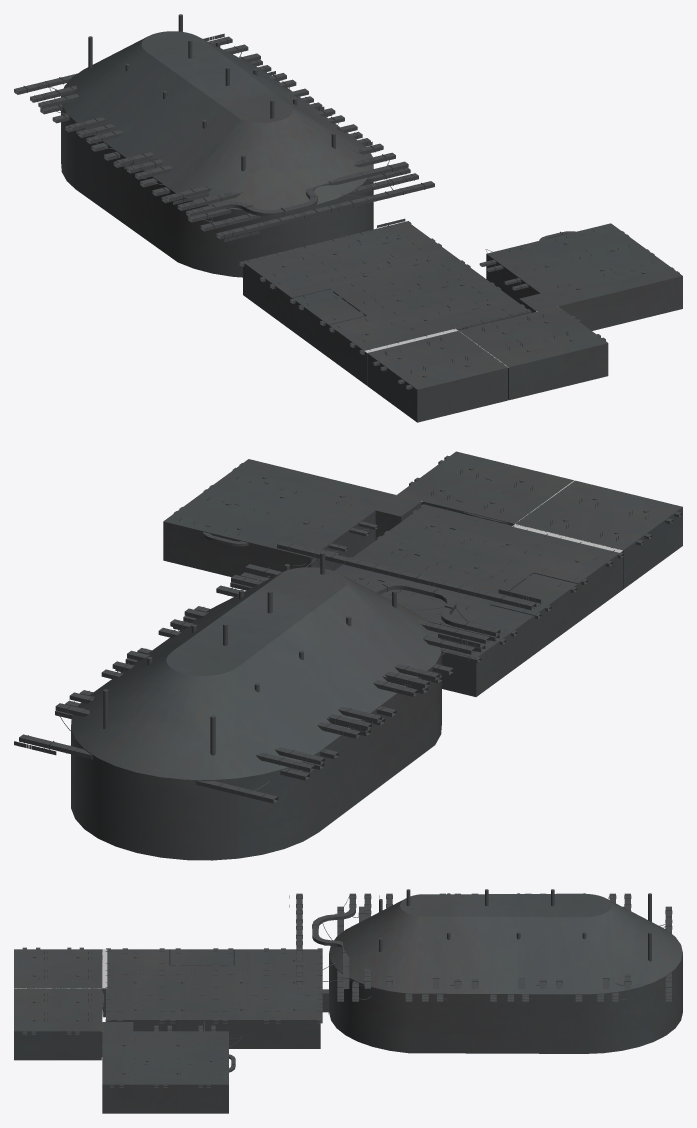
Rendered from Dave&Buster.fbx.
The picture shows the model from 3 angles, top to bottom: view 1: azimuth 30°, elevation 25°; view 2: azimuth 150°, elevation 25°; view 3: azimuth 270°, elevation 25°; orthographic projection. The views are drawn at different scales.
Parts seen in each view (by area): view 1: Plane, Cube.019, Cube.018, Cube.020, Cube.022, Cube.021, Cube.015, Cylinder.024, Cube.003; view 2: Plane, Cube.019, Cube.022, Cube.015, Cube.020, Cube.021, Cylinder.024, Cube.018, Cube.002, Cube.003; view 3: Plane, Cube.019, Cube.018, Cylinder.024, Cube.015, Cube.003, Cube.022, Cube.004, Cube.020.
Boxes of the visible parts, left/top/right/bottom form: Plane: left=61, top=31, right=682, bottom=422; Cube.019: left=177, top=152, right=434, bottom=242; Cube.018: left=161, top=141, right=418, bottom=231; Cube.020: left=126, top=115, right=383, bottom=204; Cube.022: left=30, top=44, right=286, bottom=134; Cube.021: left=78, top=79, right=335, bottom=169; Cube.015: left=14, top=33, right=271, bottom=123; Cylinder.024: left=88, top=14, right=335, bottom=171; Cube.003: left=290, top=260, right=531, bottom=354; Plane: left=71, top=451, right=682, bottom=860; Cube.019: left=231, top=541, right=540, bottom=643; Cube.022: left=55, top=669, right=365, bottom=772; Cube.015: left=14, top=700, right=324, bottom=803; Cube.020: left=170, top=585, right=480, bottom=688; Cube.021: left=112, top=627, right=422, bottom=730; Cylinder.024: left=103, top=552, right=396, bottom=755; Cube.018: left=194, top=572, right=499, bottom=675; Cube.002: left=173, top=463, right=399, bottom=565; Cube.003: left=341, top=504, right=623, bottom=618; Plane: left=14, top=893, right=682, bottom=1113; Cube.019: left=289, top=893, right=371, bottom=989; Cube.018: left=337, top=906, right=412, bottom=1001; Cylinder.024: left=379, top=889, right=651, bottom=961; Cube.015: left=597, top=906, right=679, bottom=1001; Cube.003: left=105, top=948, right=257, bottom=1023; Cube.022: left=556, top=893, right=631, bottom=989; Cube.004: left=263, top=948, right=328, bottom=1023; Cube.020: left=379, top=893, right=461, bottom=988.
Size of what is drawn, in the model's own units: 18976 by 7753 by 35324.
